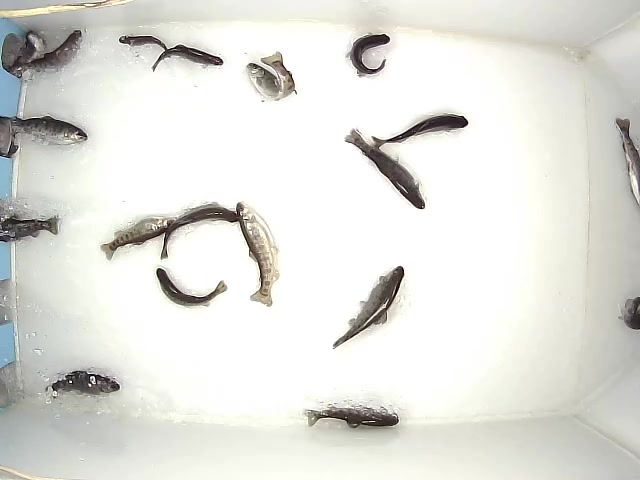fish: (343, 128, 427, 211), (331, 264, 406, 350), (236, 201, 280, 308), (160, 202, 240, 260), (371, 113, 469, 152), (99, 215, 176, 261), (17, 28, 84, 73), (155, 267, 226, 307), (303, 402, 400, 431), (244, 51, 299, 102), (42, 369, 121, 404), (7, 116, 88, 148), (614, 115, 640, 212), (344, 31, 392, 79), (151, 43, 225, 73), (1, 214, 61, 243), (118, 34, 171, 59)
